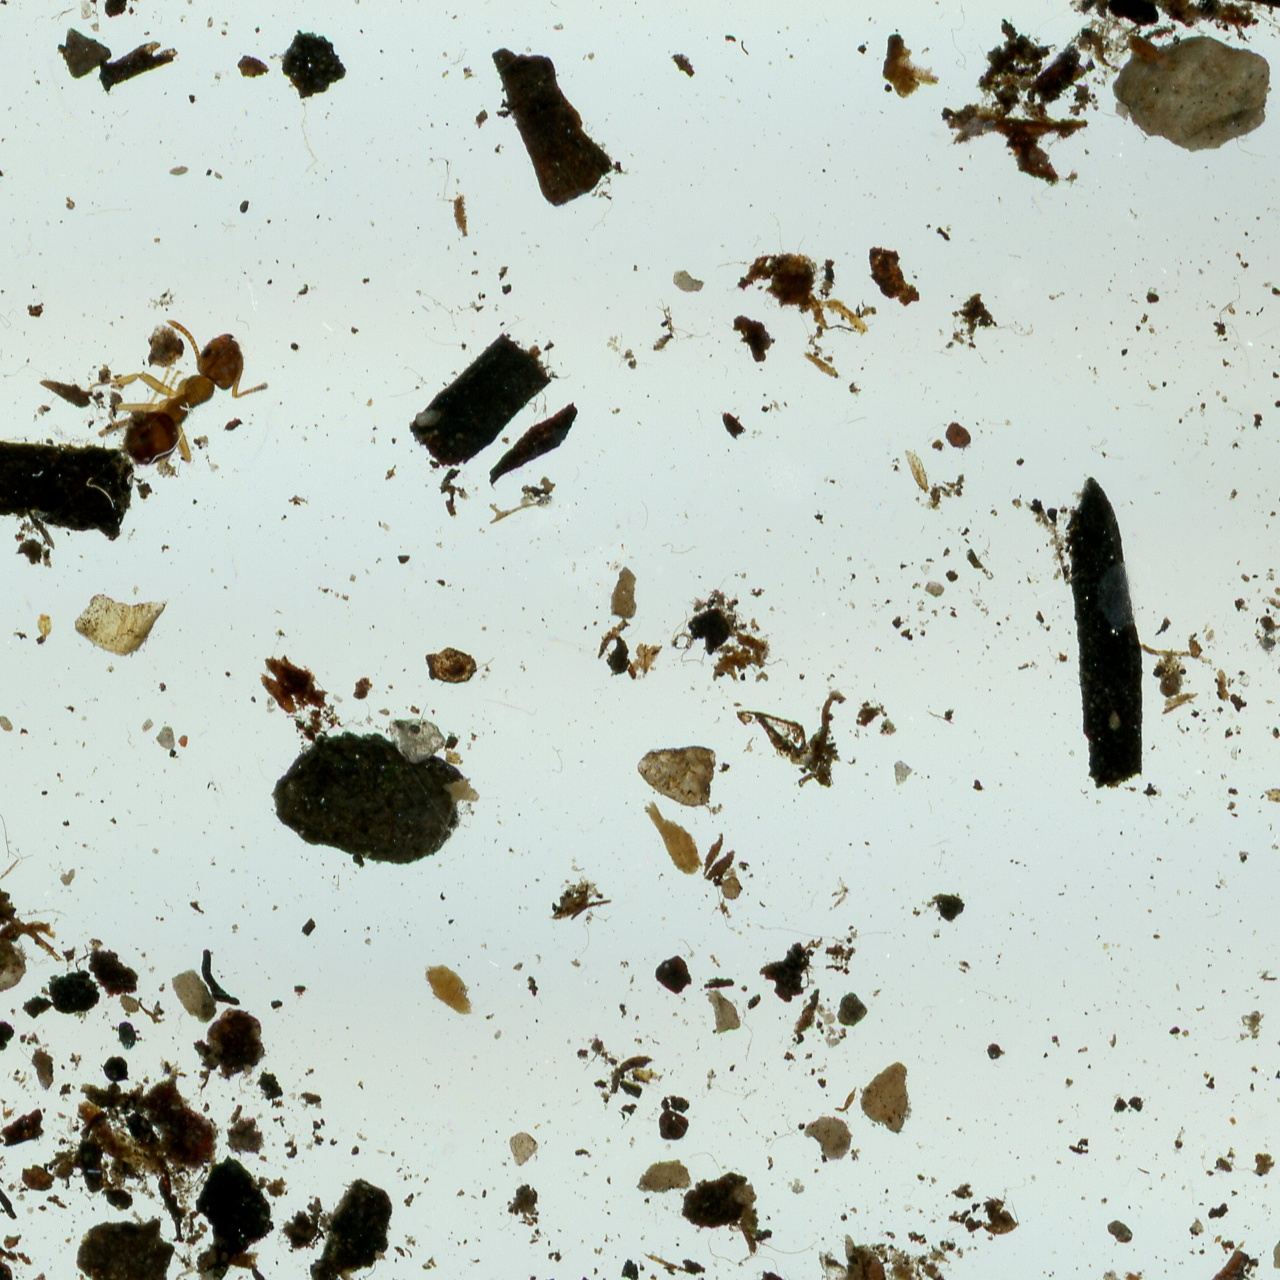arthropod: (64, 281, 286, 508)
